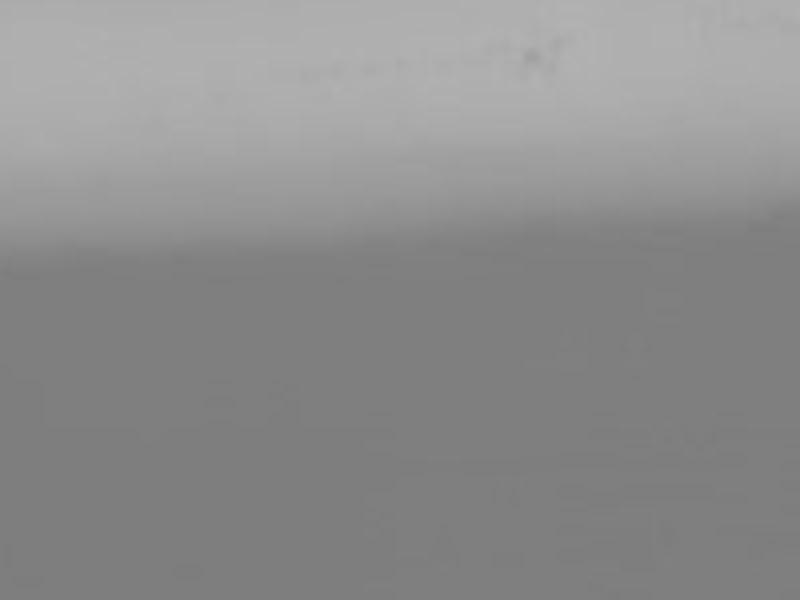defect: (520, 45, 542, 73)
